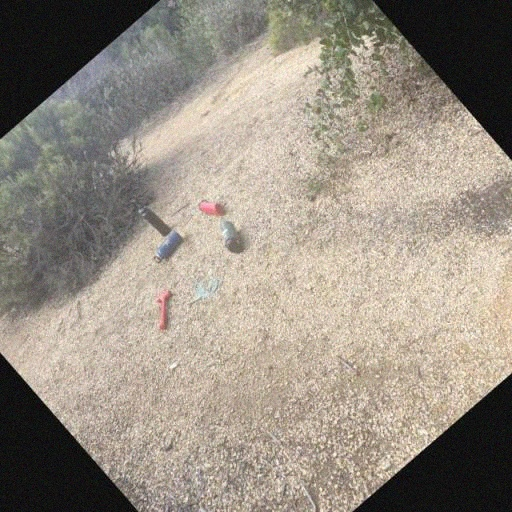bottle: (130, 193, 172, 239), (212, 217, 250, 257), (148, 229, 186, 265), (196, 192, 226, 223)
mallet: (144, 288, 186, 330)
